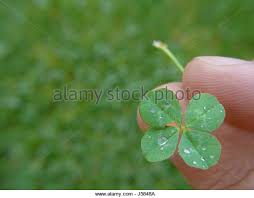4-clover: (140, 88, 226, 169)
